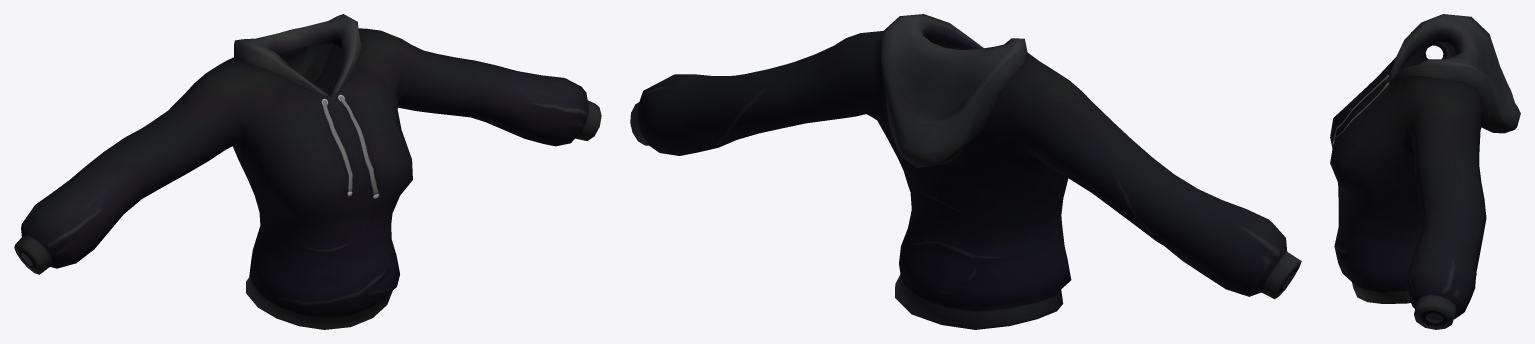
The model's file is hoody.fbx.
The picture shows the model from 3 angles, left to right: view 1: azimuth 30°, elevation 25°; view 2: azimuth 150°, elevation 25°; view 3: azimuth 270°, elevation 25°; orthographic projection. The views are drawn at different scales.
Parts seen in each view (by area): view 1: hoody; view 2: hoody; view 3: hoody.
Part boxes in pixels (x1,y1,x2,y2): hoody: [14, 14, 601, 329]; hoody: [630, 14, 1301, 329]; hoody: [1330, 14, 1520, 329].
Bounding box in the file's own units: 115 × 49.63 × 34.26.
